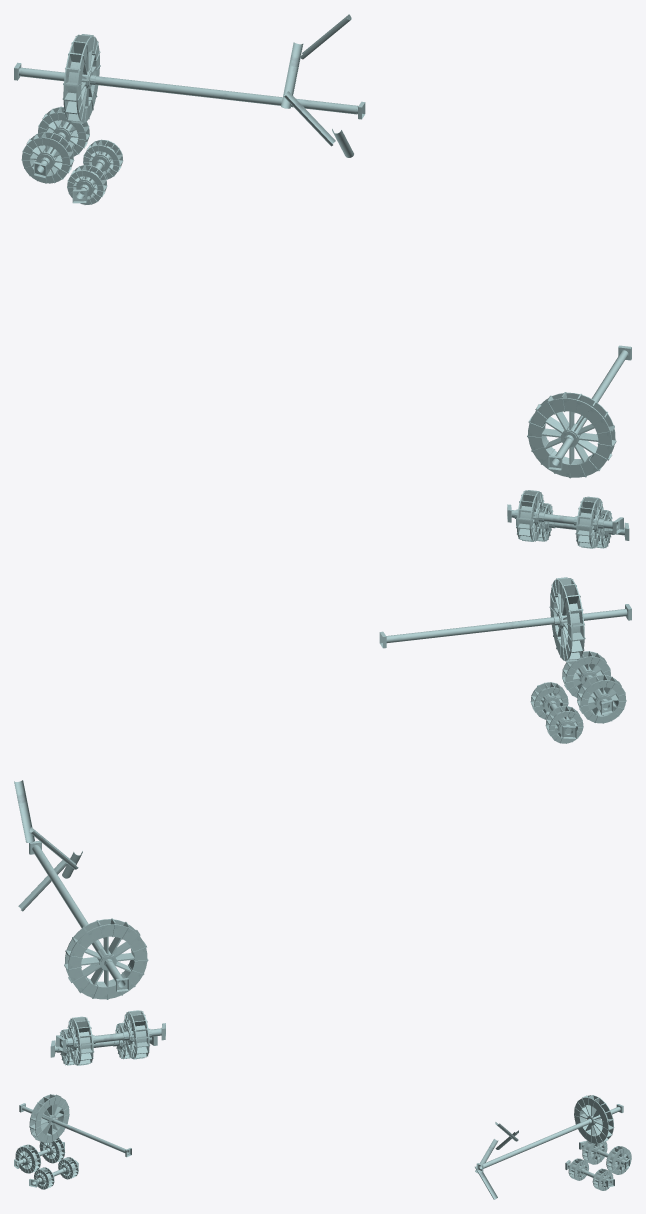
Rendered from field_winter_gear_grp.fbx.
The picture shows the model from 3 angles, top to bottom: view 1: azimuth 30°, elevation 25°; view 2: azimuth 150°, elevation 25°; view 3: azimuth 270°, elevation 25°; orthographic projection. The views are drawn at different scales.
Visible parts, largest first — view 1: field_winter_gear_grp2, field_winter_gear_grp1; view 2: field_winter_gear_grp2, field_winter_gear_grp1; view 3: field_winter_gear_grp2, field_winter_gear_grp1.
Boxes of the visible parts, bbox=[...] form: field_winter_gear_grp2: bbox=[14, 14, 365, 204]; field_winter_gear_grp1: bbox=[507, 345, 631, 548]; field_winter_gear_grp2: bbox=[14, 780, 165, 1065]; field_winter_gear_grp1: bbox=[379, 577, 631, 743]; field_winter_gear_grp2: bbox=[475, 1095, 631, 1199]; field_winter_gear_grp1: bbox=[14, 1094, 131, 1189].
Bounding box in the file's own units: 1718 × 1317 × 6836.
Materials: 1 (1 with a texture image).
